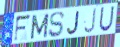F: (13, 13, 32, 43)
J: (83, 7, 97, 35), (66, 10, 81, 36)
M: (29, 13, 50, 41)
S: (48, 11, 65, 39)
U: (98, 6, 115, 33)
